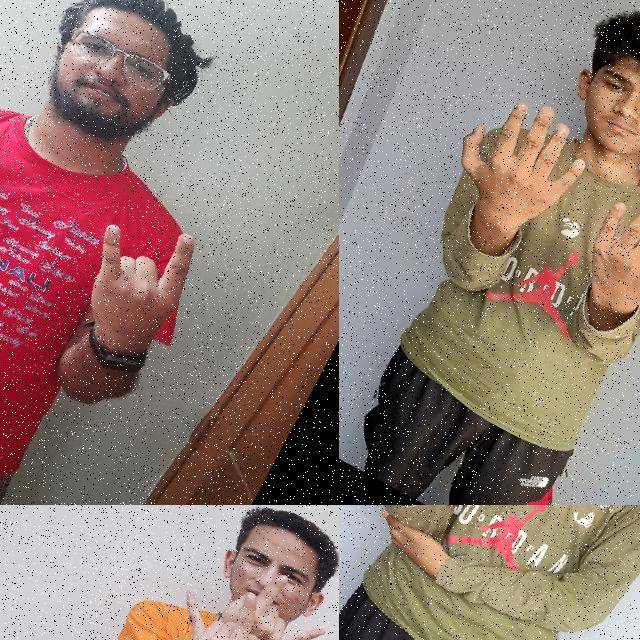Corna: (55, 190, 222, 367), (136, 557, 301, 640), (193, 547, 339, 640)
Moutza: (423, 66, 614, 262), (557, 166, 640, 360)
